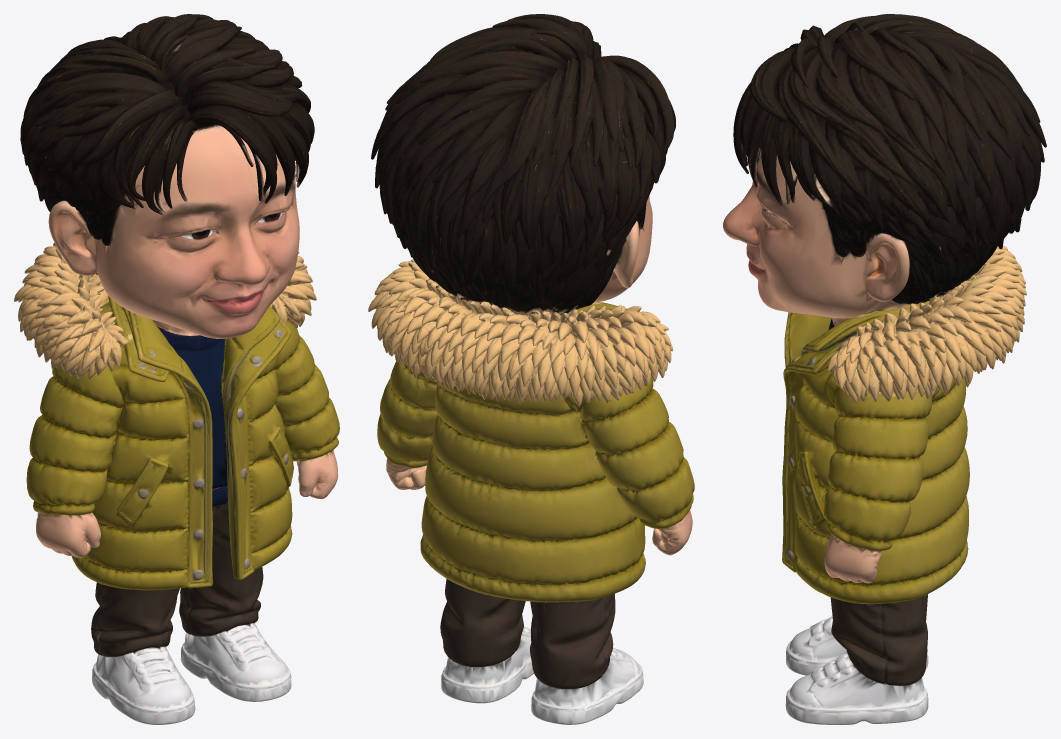
File: family_dad.glb
The picture shows the model from 3 angles, left to right: view 1: azimuth 30°, elevation 25°; view 2: azimuth 150°, elevation 25°; view 3: azimuth 270°, elevation 25°; orthographic projection.
Size of the model in its own units: 0.9192 by 1.9 by 0.8479.
Materials: 1 (1 with a texture image).
